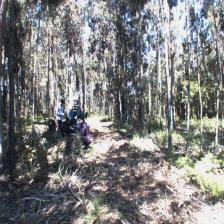trunktrack_idkeyframe: (8, 62, 15, 166), (167, 77, 172, 148)
